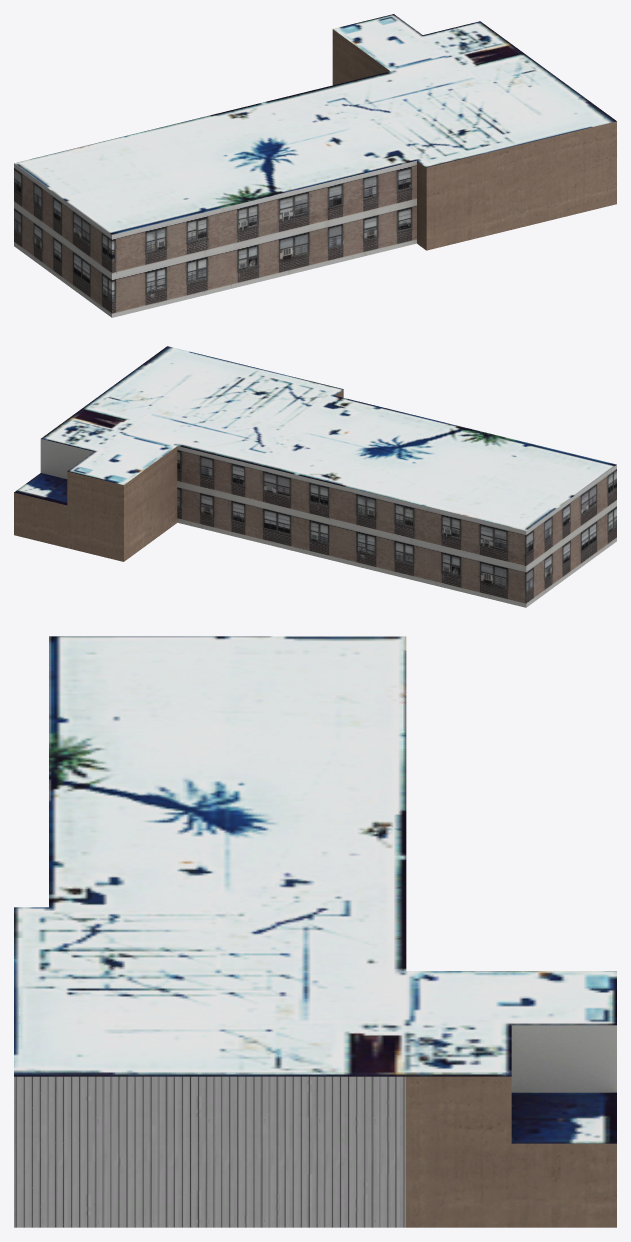
File: Building8.gltf
The picture shows the model from 3 angles, top to bottom: view 1: azimuth 30°, elevation 25°; view 2: azimuth 150°, elevation 25°; view 3: azimuth 270°, elevation 25°; orthographic projection. The views are drawn at different scales.
Parts seen in each view (by area): view 1: Building8; view 2: Building8; view 3: Building8.
Boxes of the visible parts, x1,y1,x2,y2 form: Building8: (14,14,616,317); Building8: (14,346,616,607); Building8: (14,636,616,1227).
Size of the model in its own units: 56.23 by 9 by 32.56.
1 material, 1 textured.
